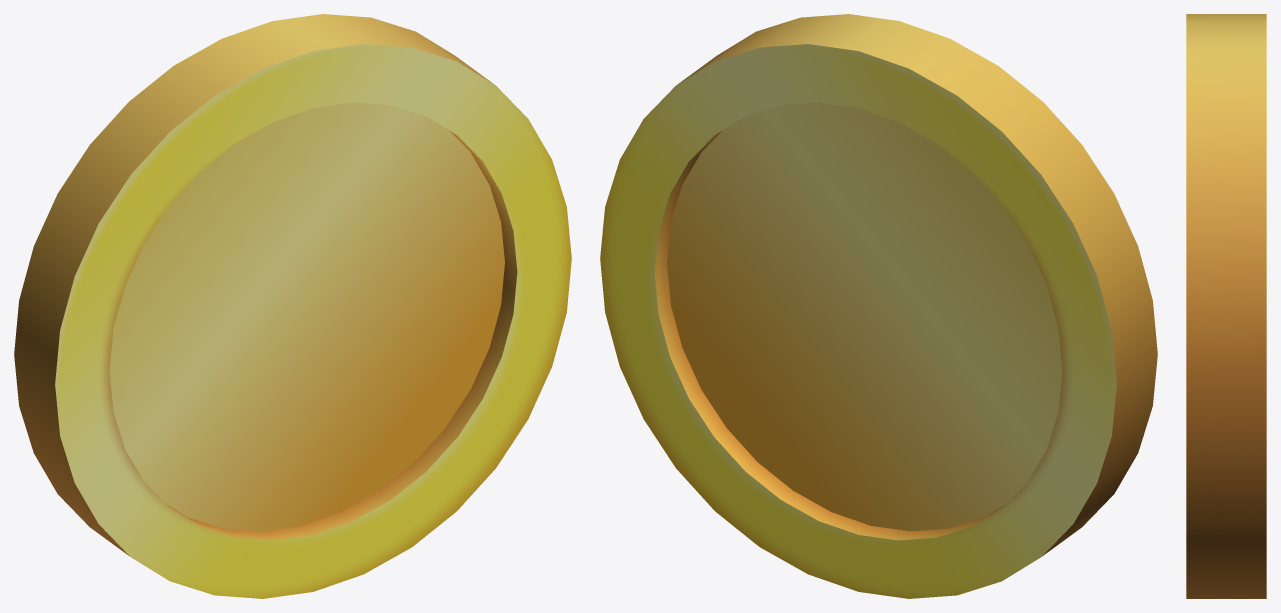
The model's file is coin.FBX.
3 views of the same model, side by side, from view 1: azimuth 30°, elevation 25°; view 2: azimuth 150°, elevation 25°; view 3: azimuth 270°, elevation 25° (orthographic).
Visible parts, largest first — view 1: coin; view 2: coin; view 3: coin.
Boxes of the visible parts, x1,y1,x2,y2 form: coin: (14,14,571,598); coin: (600,14,1157,598); coin: (1186,14,1266,598).
Bounding box in the file's own units: 16.7 × 16.7 × 2.29.
Materials: 1 (1 with a texture image).
